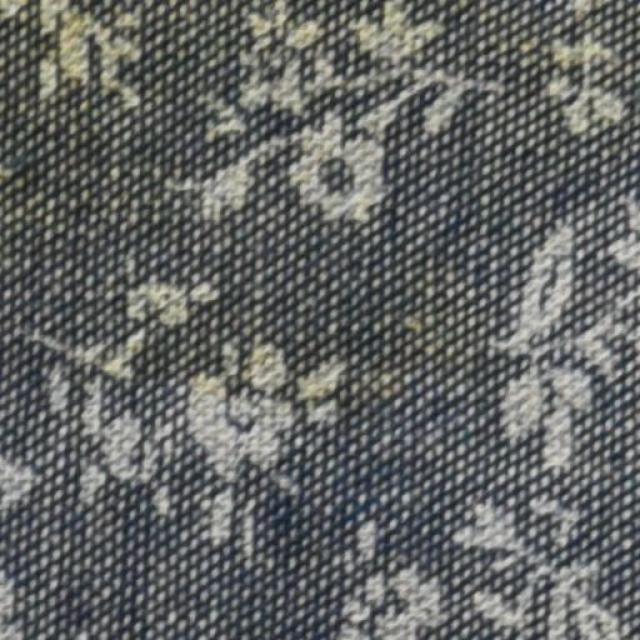Stain: (0, 0, 623, 390)
